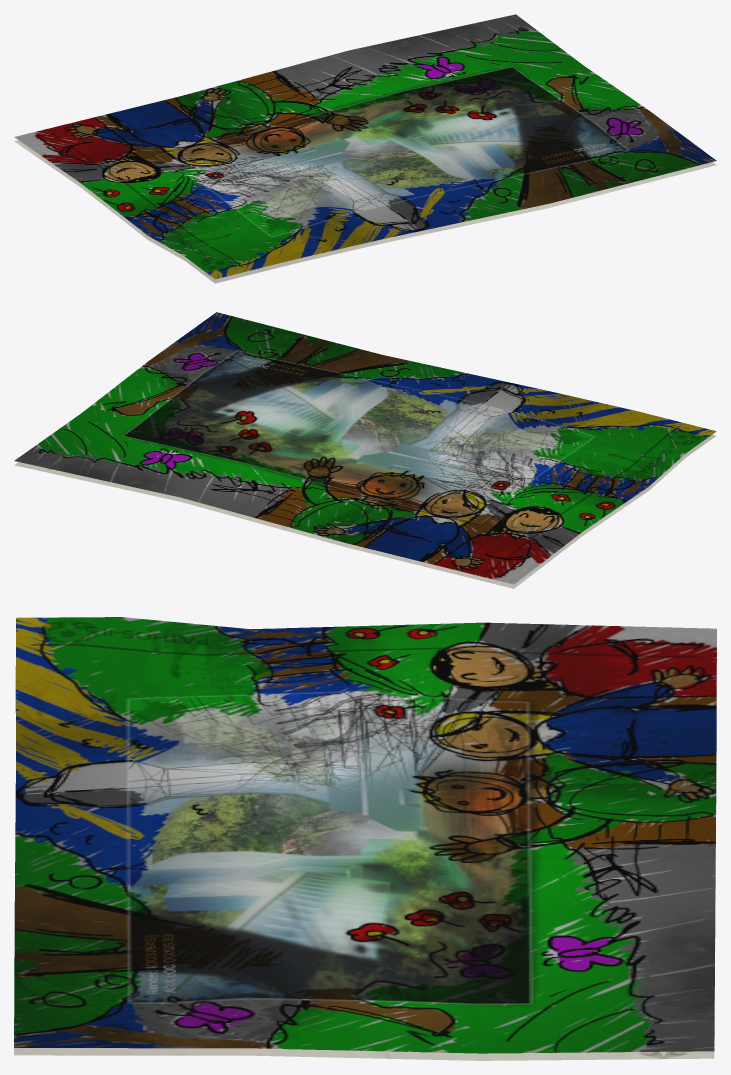
The model's file is 02_05_photo_bass_collage03.dae.
3 renders of one model, top to bottom at view 1: azimuth 30°, elevation 25°; view 2: azimuth 150°, elevation 25°; view 3: azimuth 270°, elevation 25°, orthographic. The views are drawn at different scales.
Visible parts, largest first — view 1: bass_collage03; view 2: bass_collage03; view 3: bass_collage03.
Boxes of the visible parts, x1,y1,x2,y2 form: bass_collage03: (14, 14, 716, 283); bass_collage03: (14, 312, 716, 588); bass_collage03: (14, 617, 716, 1060).
Bounding box in the file's own units: 35.12 × 0.9809 × 24.54.
